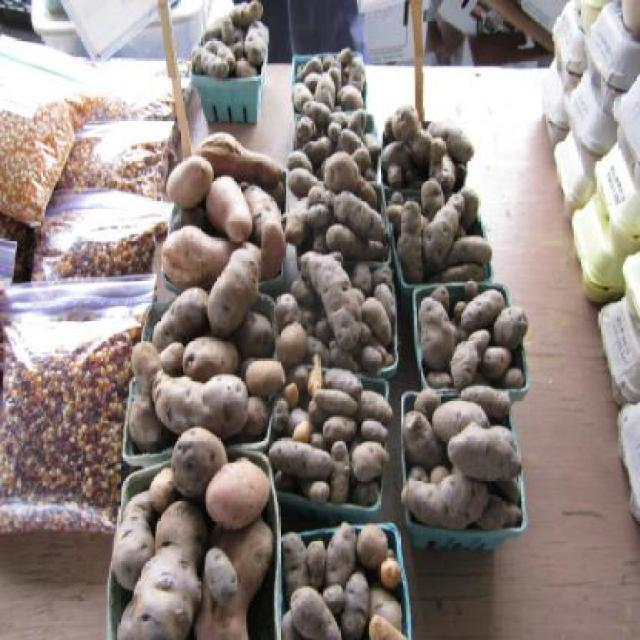Potato: (186, 458, 268, 538)
